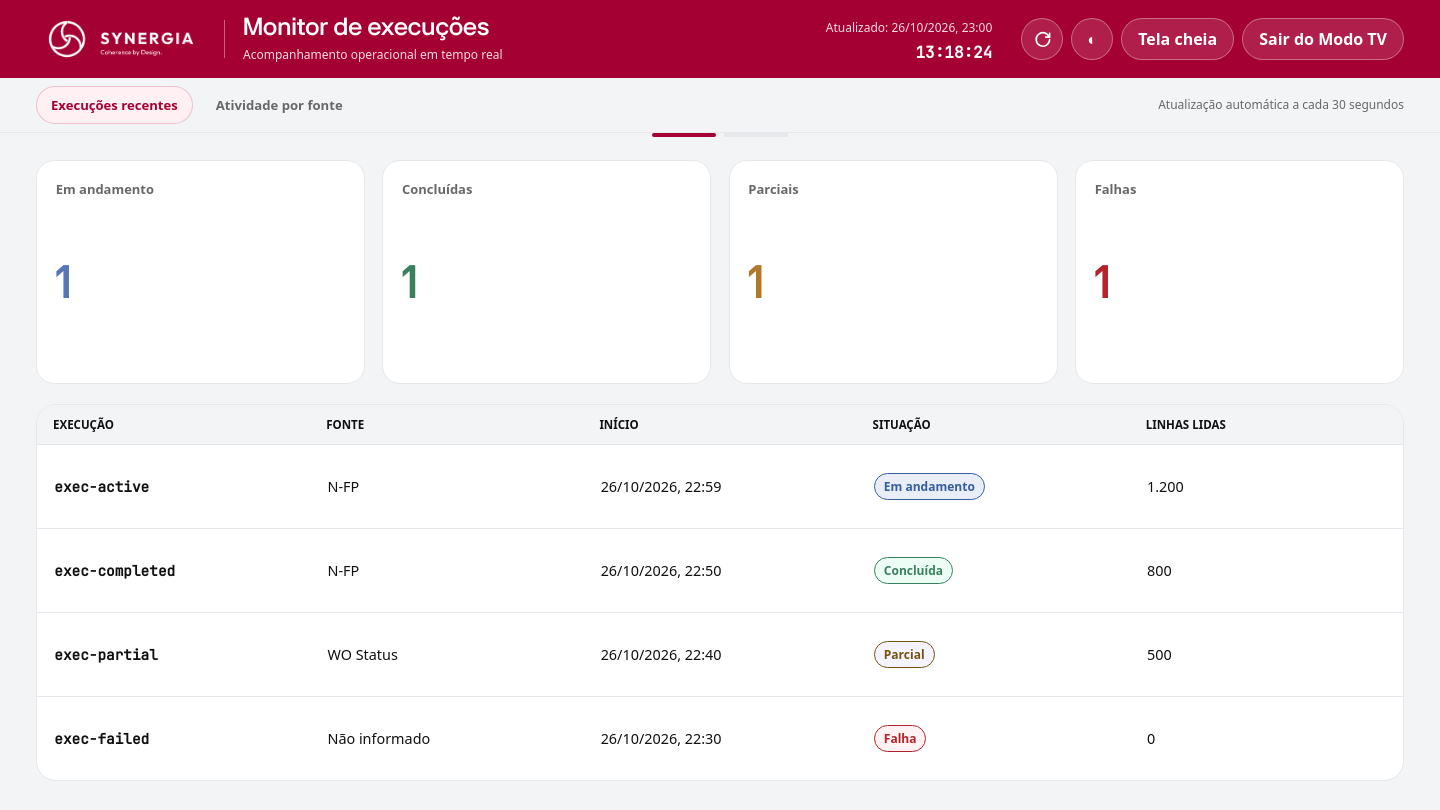
Scenario: TvMonitorComponent › aggregates observed sources without claiming source availability
The image size is (1440, 810).
Click the button "Atividade por fonte" at (279, 105), box [201,86,358,124]
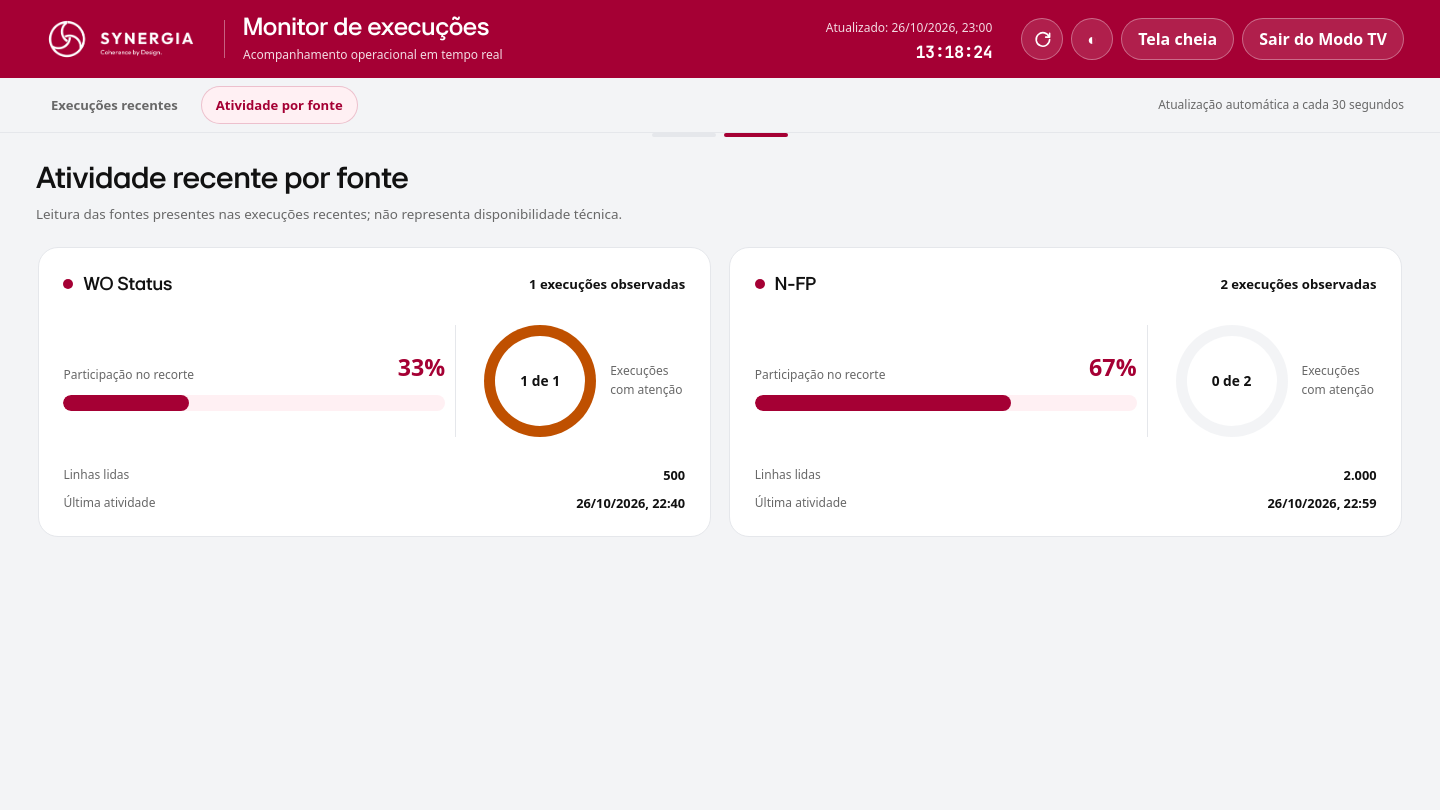
Expected: the element that starts with "Atividade recente por fonte" shows "N-FP", [775,274,816,294]
Result: the element that starts with "Atividade recente por fonte" shows "2 execuções observadas" at [1220,275,1377,293]
Result: the text "0 de 2" is shown at [1212,371,1251,390]
